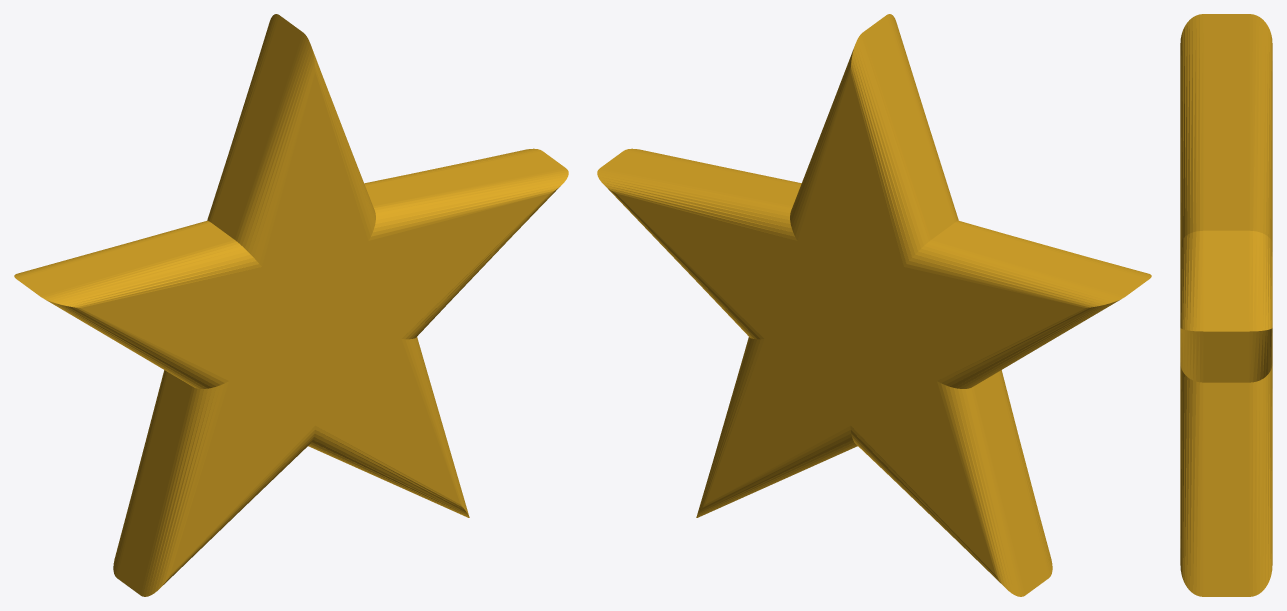
Rendered from star.glb.
3 renders of one model, left to right at view 1: azimuth 30°, elevation 25°; view 2: azimuth 150°, elevation 25°; view 3: azimuth 270°, elevation 25°, orthographic. The views are drawn at different scales.
Size of the model in its own units: 1.28 by 1.21 by 0.2.
